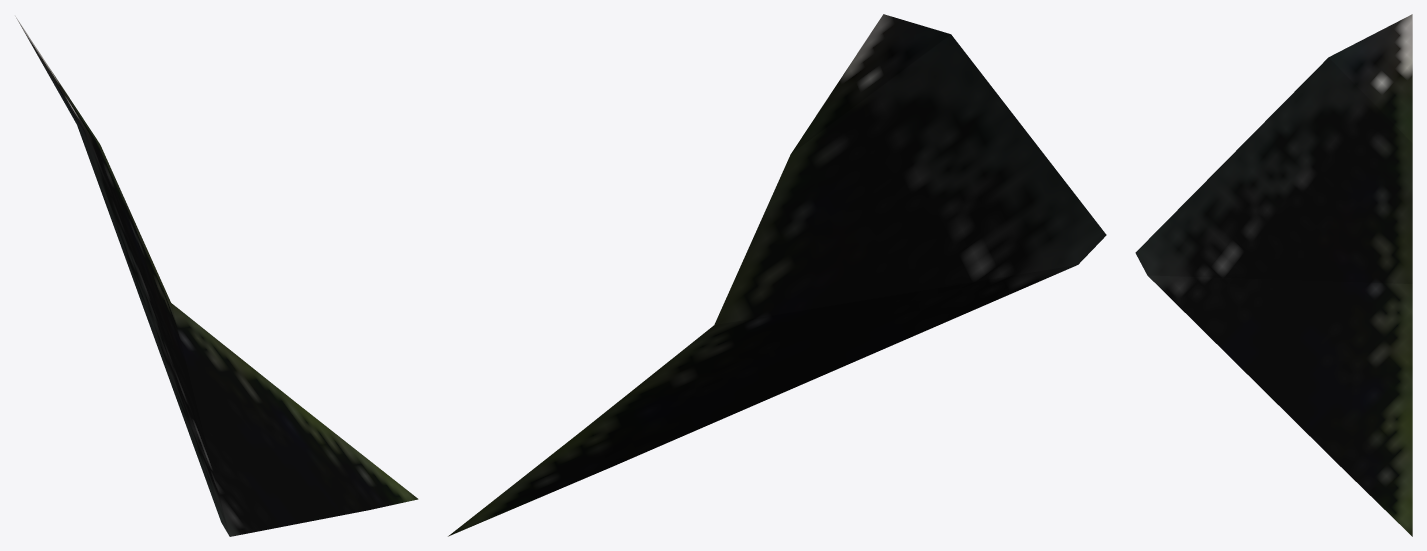
3 views of the same model, side by side, from view 1: azimuth 30°, elevation 25°; view 2: azimuth 150°, elevation 25°; view 3: azimuth 270°, elevation 25° (orthographic). The views are drawn at different scales.
Size of the model in its own units: 0.4279 by 0.59 by 0.3794.
1 material, 1 textured.
